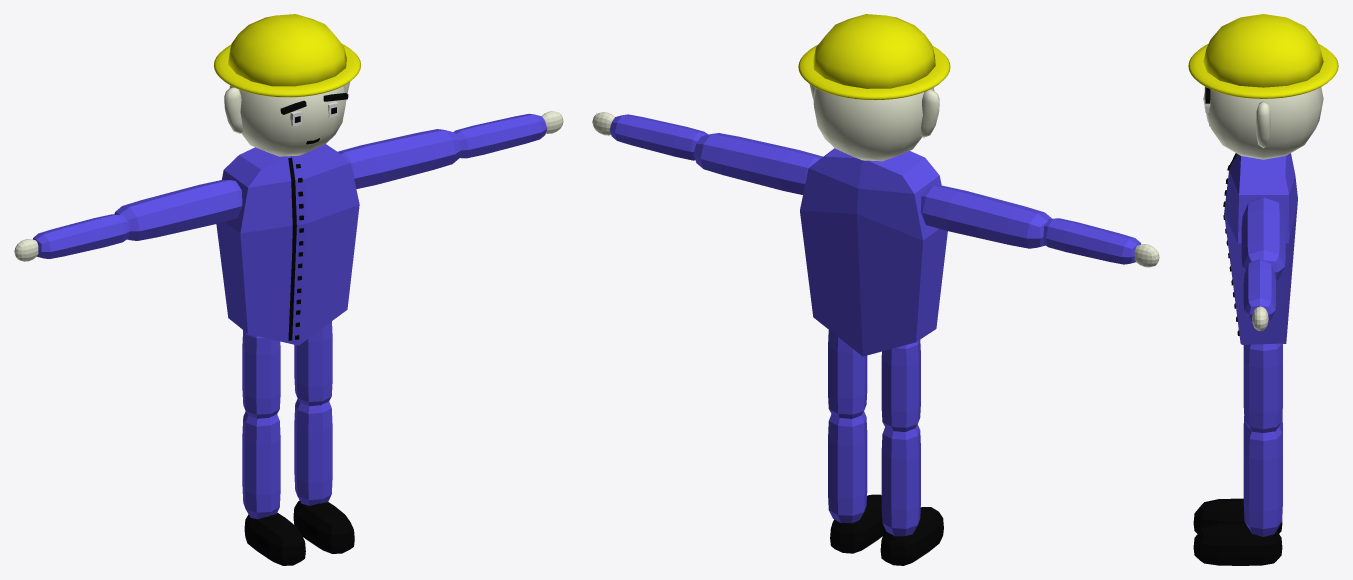
Rendered from Miner.fbx.
3 renders of one model, left to right at view 1: azimuth 30°, elevation 25°; view 2: azimuth 150°, elevation 25°; view 3: azimuth 270°, elevation 25°, orthographic. The views are drawn at different scales.
Visible parts, largest first — view 1: Body, Cube.001, Head, Arm_Right, Arm_Left, BottomLeg_Right, BottomLeg_Left, TopLeg_Right, Forearm_Right, TopLeg_Left, Forearm_Left, Hat (+4 smaller); view 2: Body, Cube.001, Head, Arm_Right, Arm_Left, BottomLeg_Right, BottomLeg_Left, TopLeg_Right, Forearm_Right, TopLeg_Left, Forearm_Left, Hat (+3 smaller); view 3: Body, Cube.001, Head, BottomLeg_Left, TopLeg_Left, Foot_Left, Arm_Left, Hat, Forearm_Left, Foot_Right, Ear_Left, Hand_Left.
Boxes of the visible parts, box(x1,y1,x2,y2) form: Body: box(216, 144, 359, 345); Cube.001: box(228, 14, 346, 86); Head: box(229, 85, 346, 156); Arm_Right: box(114, 179, 242, 240); Arm_Left: box(337, 129, 460, 188); BottomLeg_Right: box(242, 411, 280, 519); BottomLeg_Left: box(294, 399, 332, 505); TopLeg_Right: box(242, 330, 280, 418); Forearm_Right: box(33, 214, 129, 258); TopLeg_Left: box(294, 321, 332, 406); Forearm_Left: box(453, 113, 547, 158); Hat: box(214, 44, 360, 97); Body: box(800, 148, 947, 356); Cube.001: box(813, 14, 935, 88); Head: box(813, 88, 934, 161); Arm_Right: box(920, 185, 1051, 248); Arm_Left: box(693, 133, 822, 194); BottomLeg_Right: box(881, 424, 920, 536); BottomLeg_Left: box(828, 411, 867, 523); TopLeg_Right: box(881, 340, 920, 431); Forearm_Right: box(1043, 218, 1140, 264); TopLeg_Left: box(828, 330, 867, 418); Forearm_Left: box(609, 114, 708, 160); Hat: box(798, 45, 950, 100); Body: box(1224, 153, 1297, 344); Cube.001: box(1203, 14, 1323, 87); Head: box(1203, 87, 1323, 159); BottomLeg_Left: box(1243, 427, 1282, 536); TopLeg_Left: box(1243, 343, 1282, 432); Foot_Left: box(1193, 523, 1282, 565); Arm_Left: box(1241, 197, 1285, 280); Hat: box(1188, 44, 1338, 98); Forearm_Left: box(1243, 259, 1275, 320); Foot_Right: box(1193, 498, 1282, 533); Ear_Left: box(1256, 101, 1270, 147); Hand_Left: box(1252, 306, 1268, 331).
Size of the model in its own units: 630 by 569 by 147.
